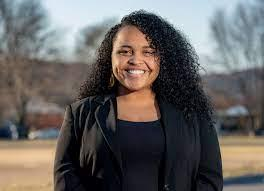Persons: (94, 8, 185, 99)
